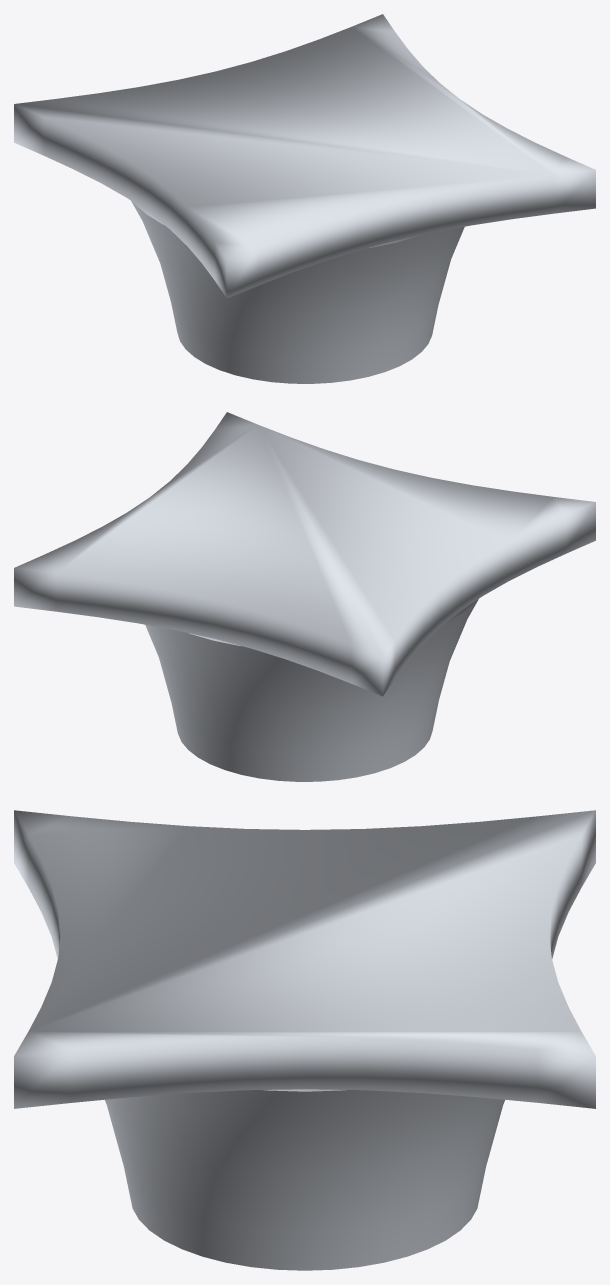
File: KRM_M42_P8_column_corinthian_bell_and_abacus_marble.fbx
3 views of the same model, one above another, from view 1: azimuth 30°, elevation 25°; view 2: azimuth 150°, elevation 25°; view 3: azimuth 270°, elevation 25° (orthographic). The views are drawn at different scales.
Parts seen in each view (by area): view 1: KRM_M42_P8_column_corinthian_bell_and_abacus_marble; view 2: KRM_M42_P8_column_corinthian_bell_and_abacus_marble; view 3: KRM_M42_P8_column_corinthian_bell_and_abacus_marble.
Part boxes in pixels (x1=…): KRM_M42_P8_column_corinthian_bell_and_abacus_marble: x1=14, y1=14, x2=595, y2=383; KRM_M42_P8_column_corinthian_bell_and_abacus_marble: x1=14, y1=412, x2=595, y2=781; KRM_M42_P8_column_corinthian_bell_and_abacus_marble: x1=14, y1=810, x2=595, y2=1270.
Bounding box in the file's own units: 100 × 50 × 100.
1 material, 1 textured.
